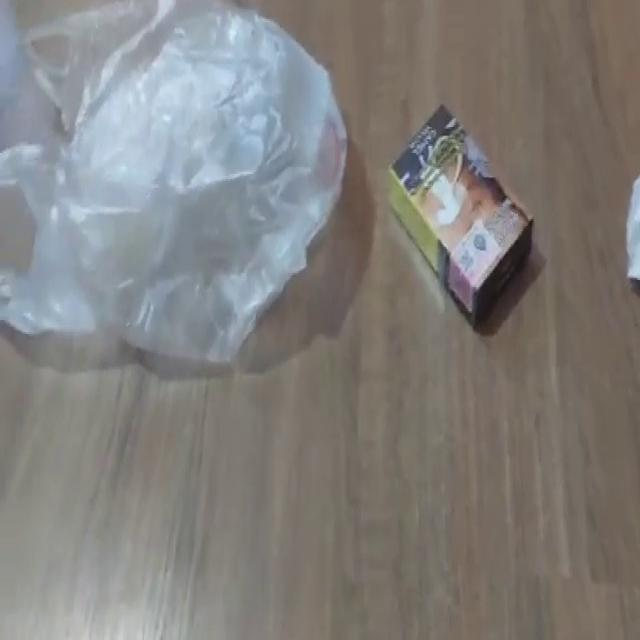Anorganik: (1, 2, 351, 372)
Organik: (386, 99, 536, 338)
